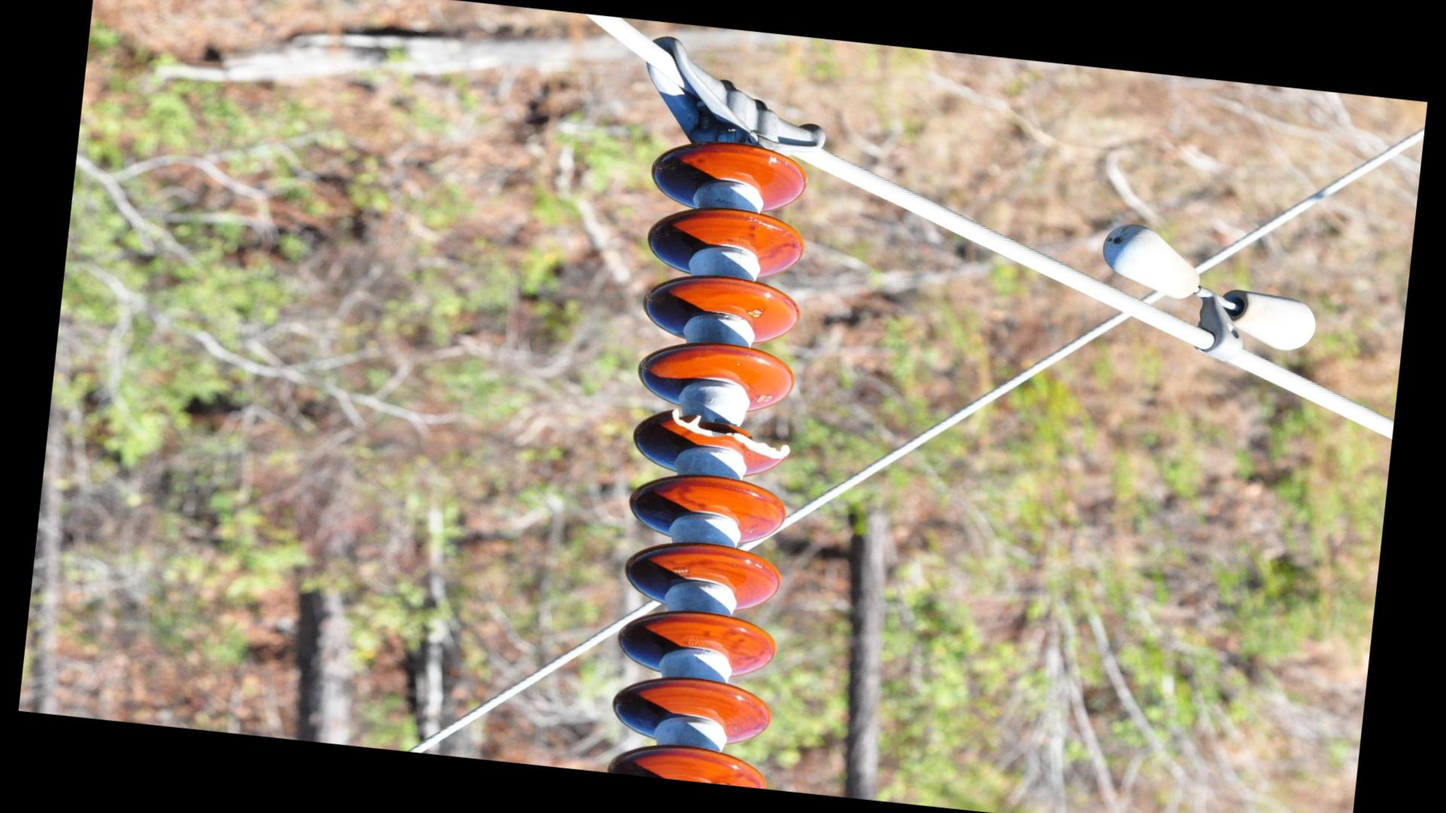damper: (1084, 214, 1332, 379)
